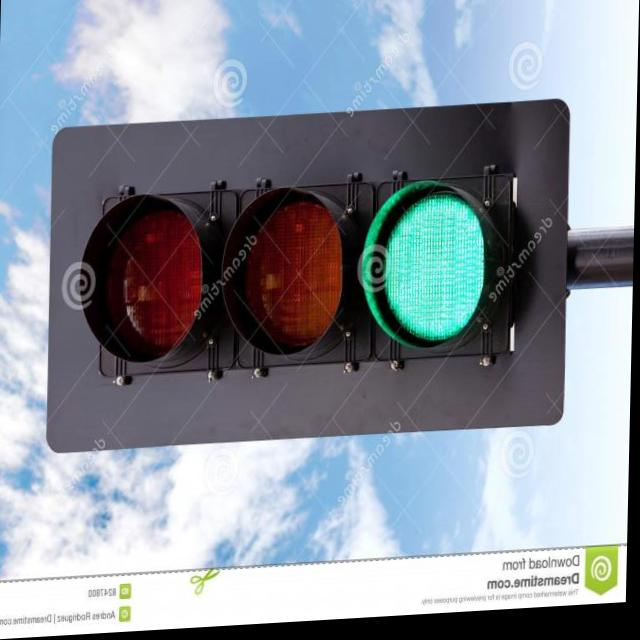green light: (84, 155, 527, 399)
